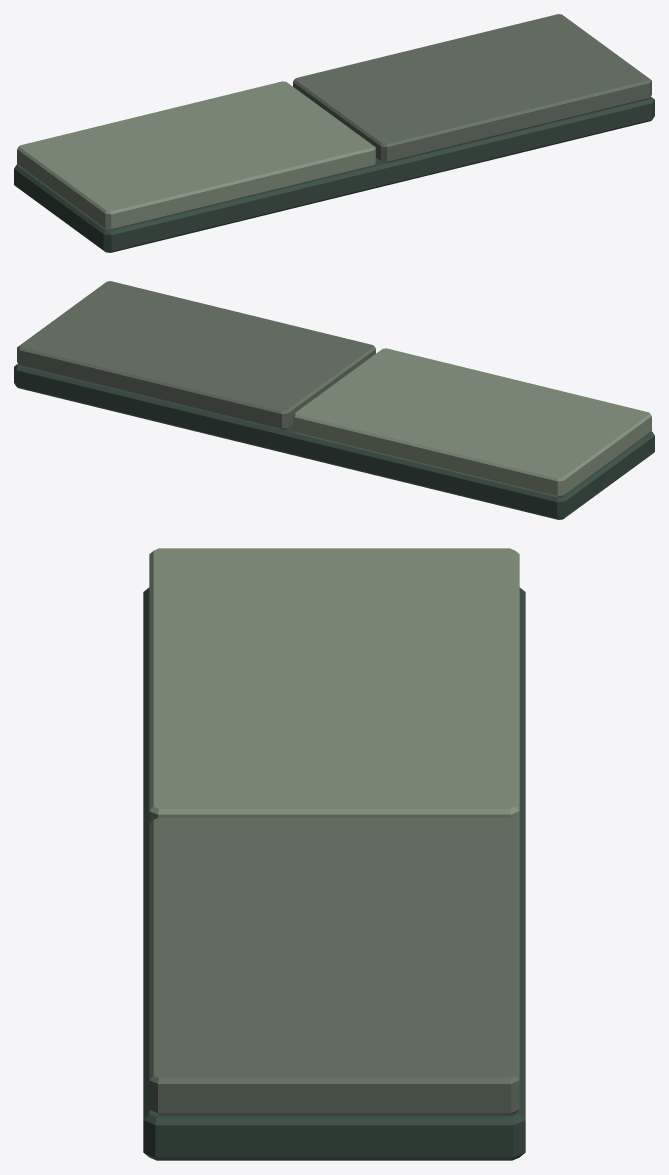
Rendered from floor-threshold.glb.
The picture shows the model from 3 angles, top to bottom: view 1: azimuth 30°, elevation 25°; view 2: azimuth 150°, elevation 25°; view 3: azimuth 270°, elevation 25°; orthographic projection. The views are drawn at different scales.
Visible parts, largest first — view 1: floor-threshold__body; view 2: floor-threshold__body; view 3: floor-threshold__body.
Boxes of the visible parts, x1=… form: floor-threshold__body: x1=14, y1=14, x2=654, y2=252; floor-threshold__body: x1=14, y1=281, x2=654, y2=519; floor-threshold__body: x1=143, y1=548, x2=525, y2=1160.
Size of the model in its own units: 2 by 0.14 by 0.6.
